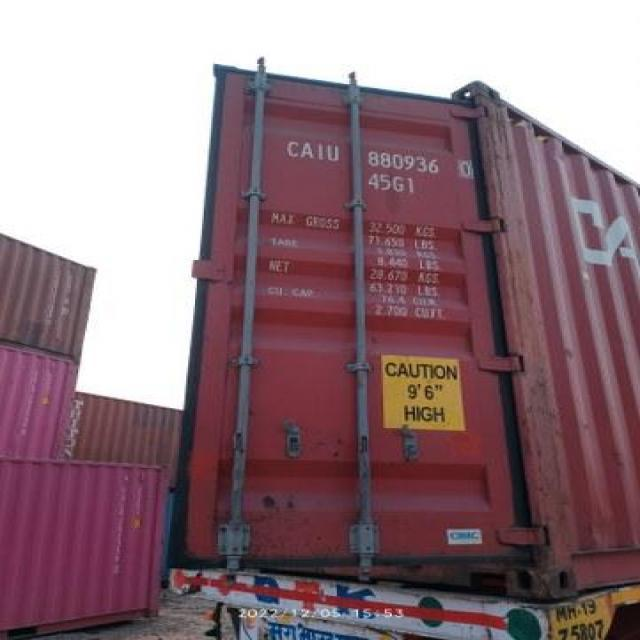container_number_h: (245, 134, 481, 206)
